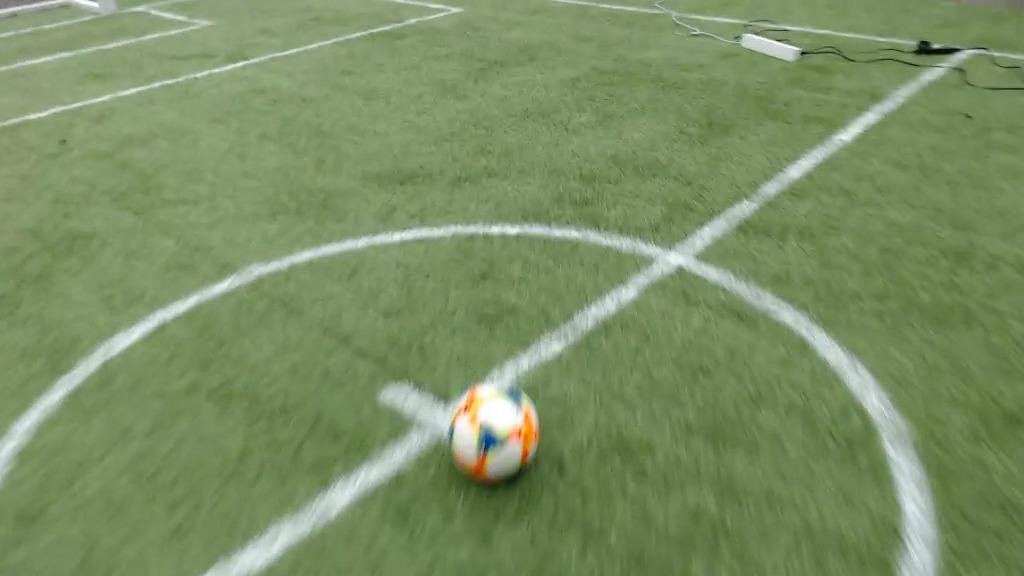ball: (448, 385, 538, 483)
